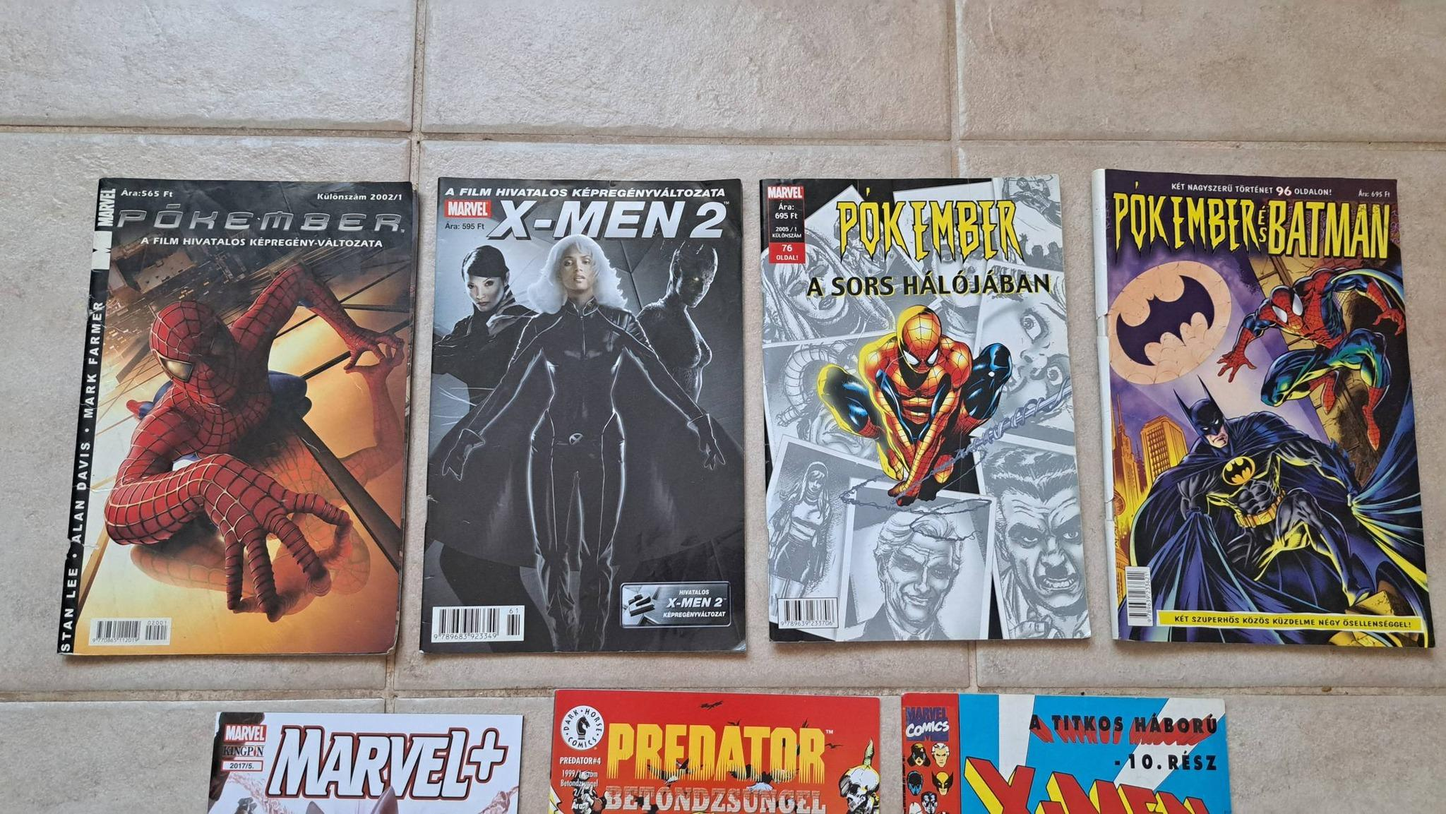comic: (58, 173, 417, 662), (1090, 156, 1433, 660), (758, 173, 1089, 645), (420, 178, 748, 654)
